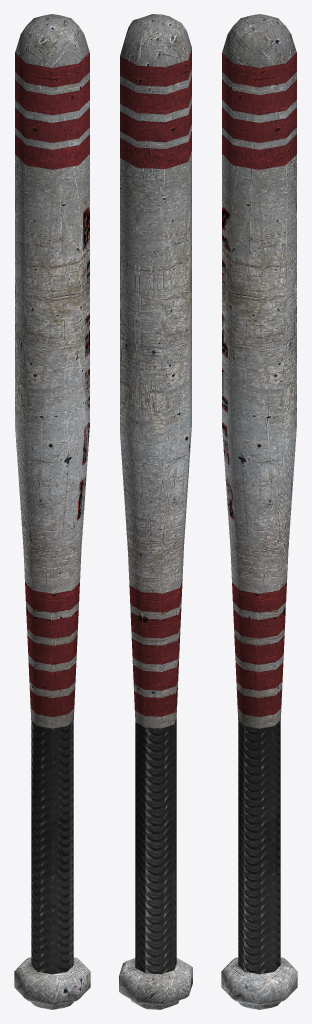
The model's file is BaseballBat_Killer_Metal(Clean).fbx.
3 views of the same model, side by side, from view 1: azimuth 90°, elevation 25°; view 2: azimuth 150°, elevation 25°; view 3: azimuth 270°, elevation 25° (orthographic).
Visible parts, largest first — view 1: BaseballBat_Killer_Metal(Clean); view 2: BaseballBat_Killer_Metal(Clean); view 3: BaseballBat_Killer_Metal(Clean).
Part boxes in pixels (left/top/right/bottom): BaseballBat_Killer_Metal(Clean): left=14, top=14, right=90, bottom=1009; BaseballBat_Killer_Metal(Clean): left=119, top=14, right=192, bottom=1009; BaseballBat_Killer_Metal(Clean): left=221, top=14, right=297, bottom=1009.
Bounding box in the file's own units: 5.92 × 84.03 × 5.92.
